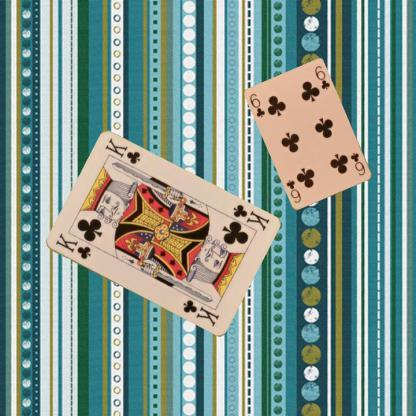6c: (248, 91, 266, 119), (348, 150, 366, 176)
Kc: (52, 230, 92, 260), (230, 202, 270, 232)
